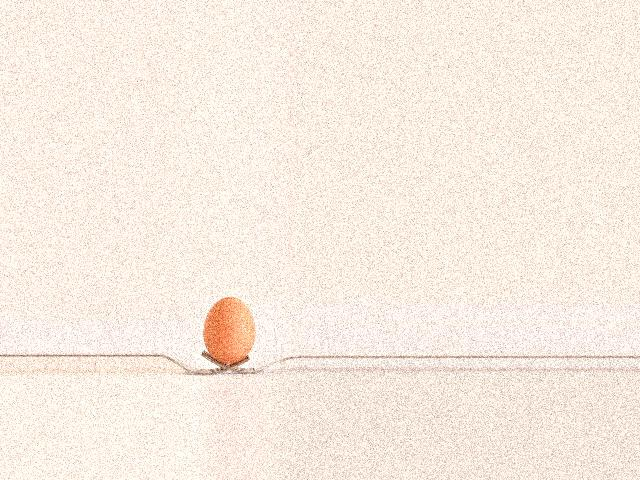egg: (204, 297, 255, 363)
